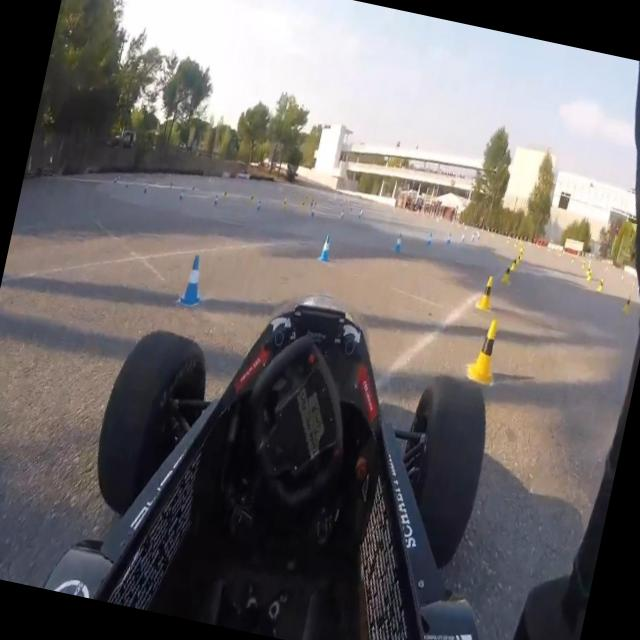Cono de seguridad: (172, 249, 211, 315), (468, 315, 504, 386), (473, 274, 499, 318), (316, 228, 336, 266), (391, 229, 405, 257), (500, 262, 513, 286), (621, 292, 631, 315), (424, 230, 434, 252), (596, 276, 605, 294), (509, 255, 518, 272), (255, 199, 263, 216), (212, 192, 220, 209), (176, 186, 184, 202), (280, 196, 288, 210), (444, 232, 452, 246), (587, 268, 593, 280)
vehiculo: (36, 250, 548, 640)
